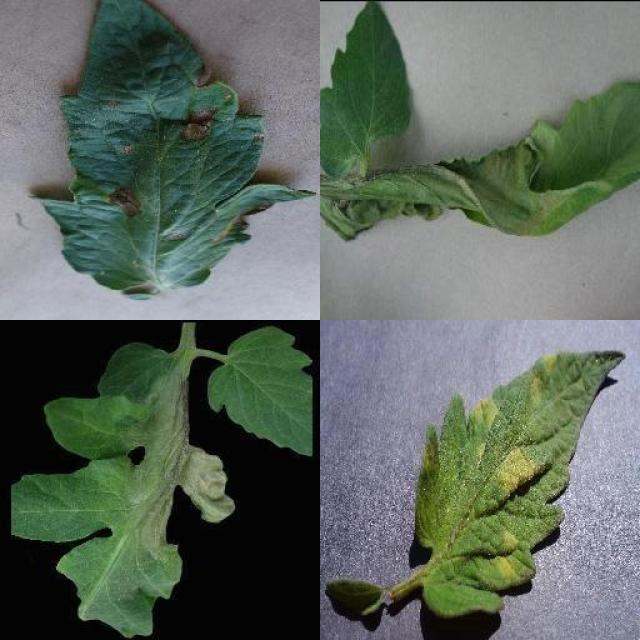Early Blight: (30, 1, 319, 302)
Healthy: (320, 0, 415, 176), (205, 328, 313, 458)
Late Blight: (12, 342, 236, 640), (320, 80, 640, 240)
